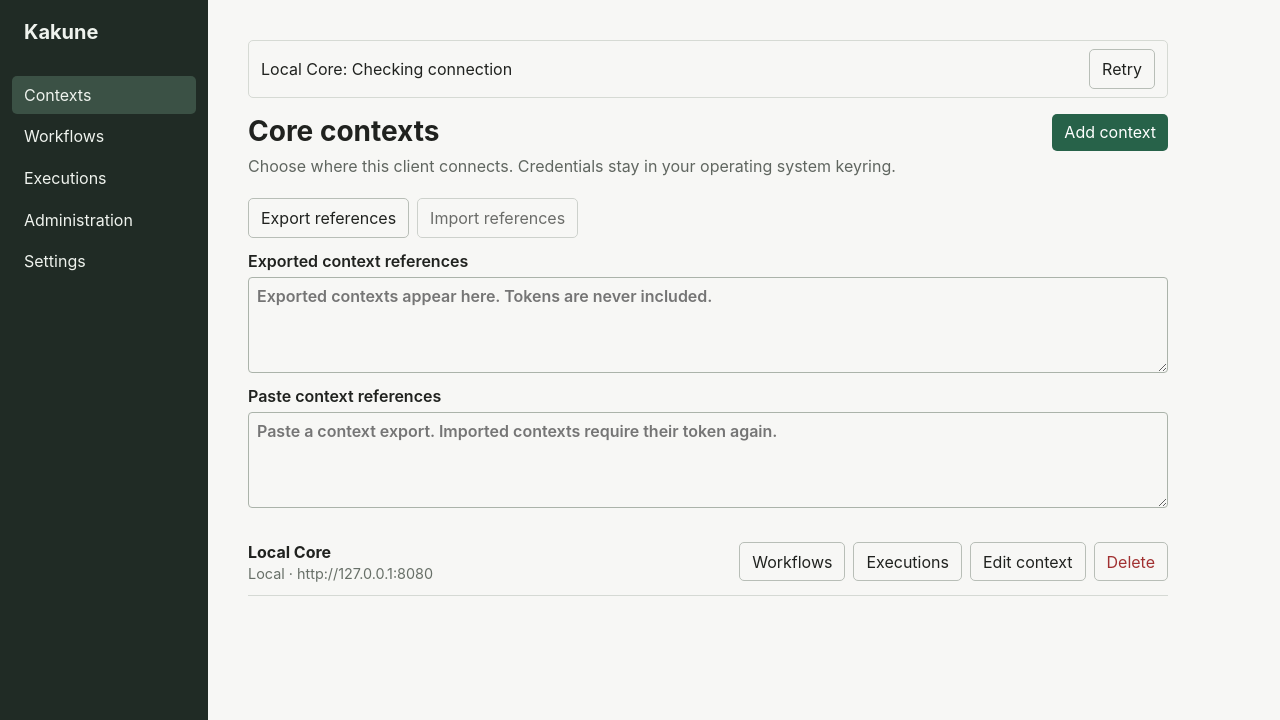
Workflow editor › keeps the selected workflow when an older source request finishes late
The width and height of the screenshot is (1280, 720).
Click the button "Workflows" below "Kakune".
click(104, 136)  # box [12,118,196,155]
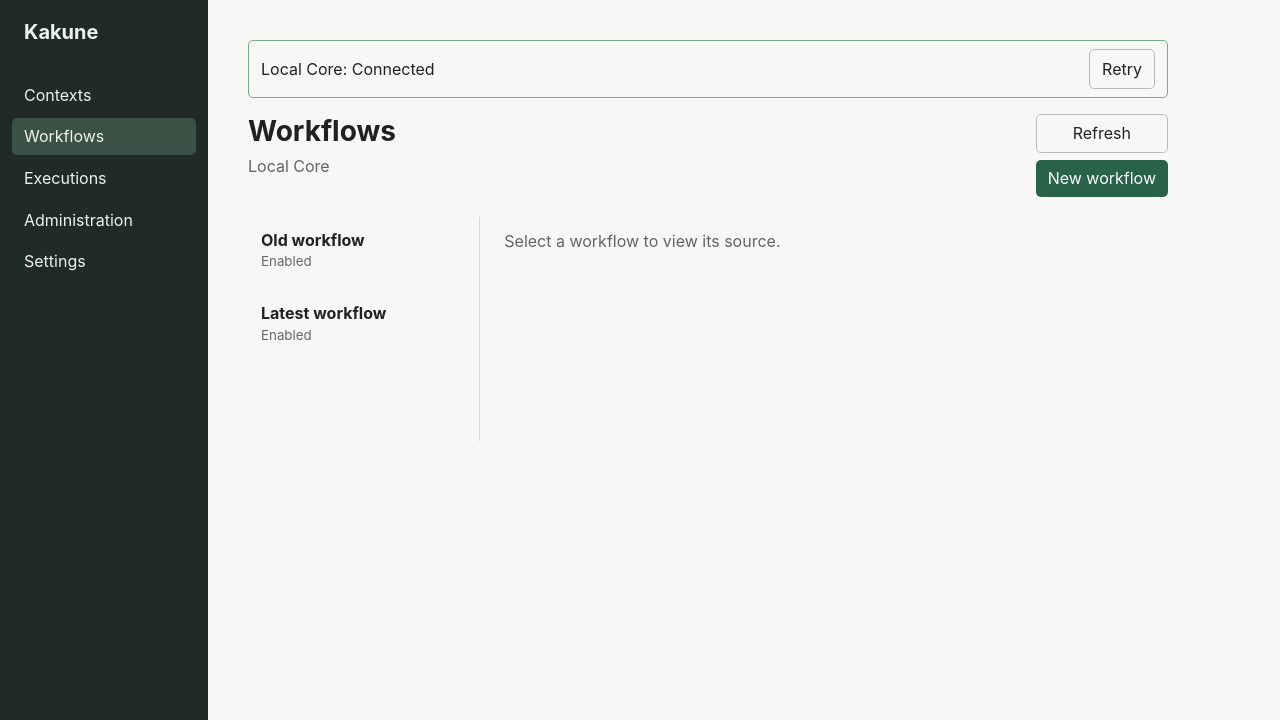
Click the button "Old workflow Enabled".
click(356, 250)  # box [248,217,463,282]
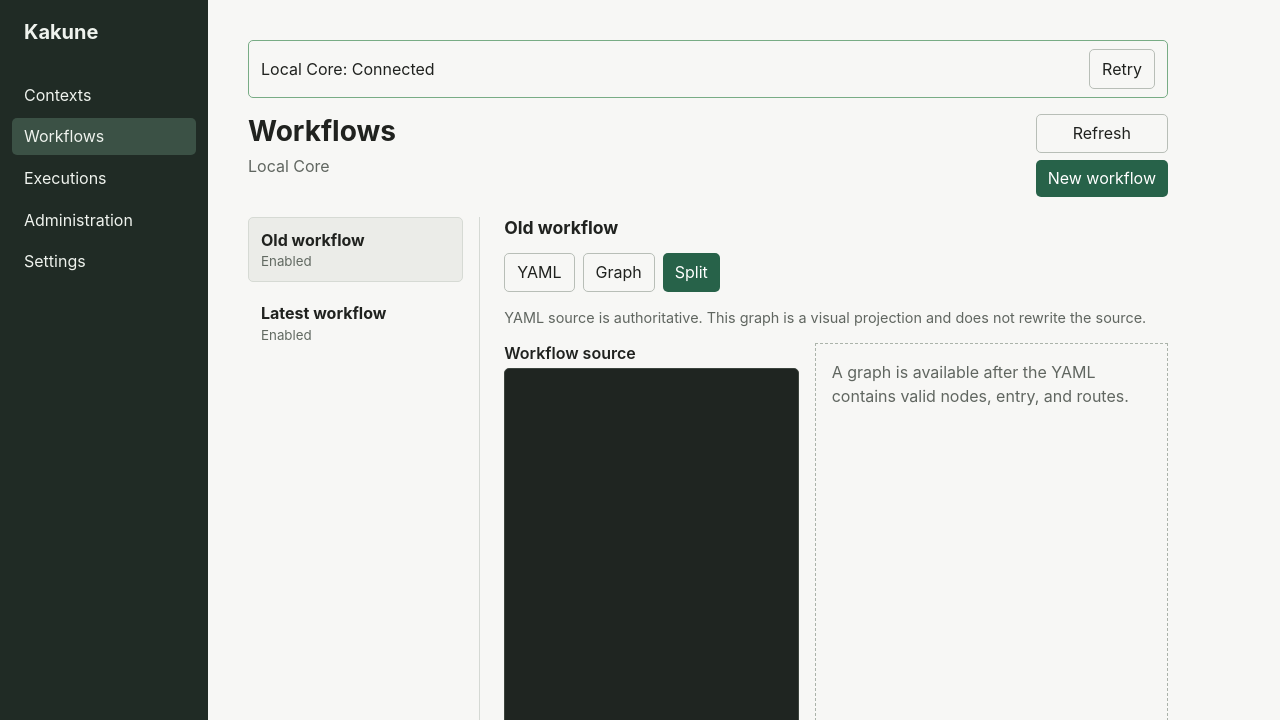
Click the button "Latest workflow Enabled".
click(356, 323)  # box [248,290,463,356]
(page scrolled)
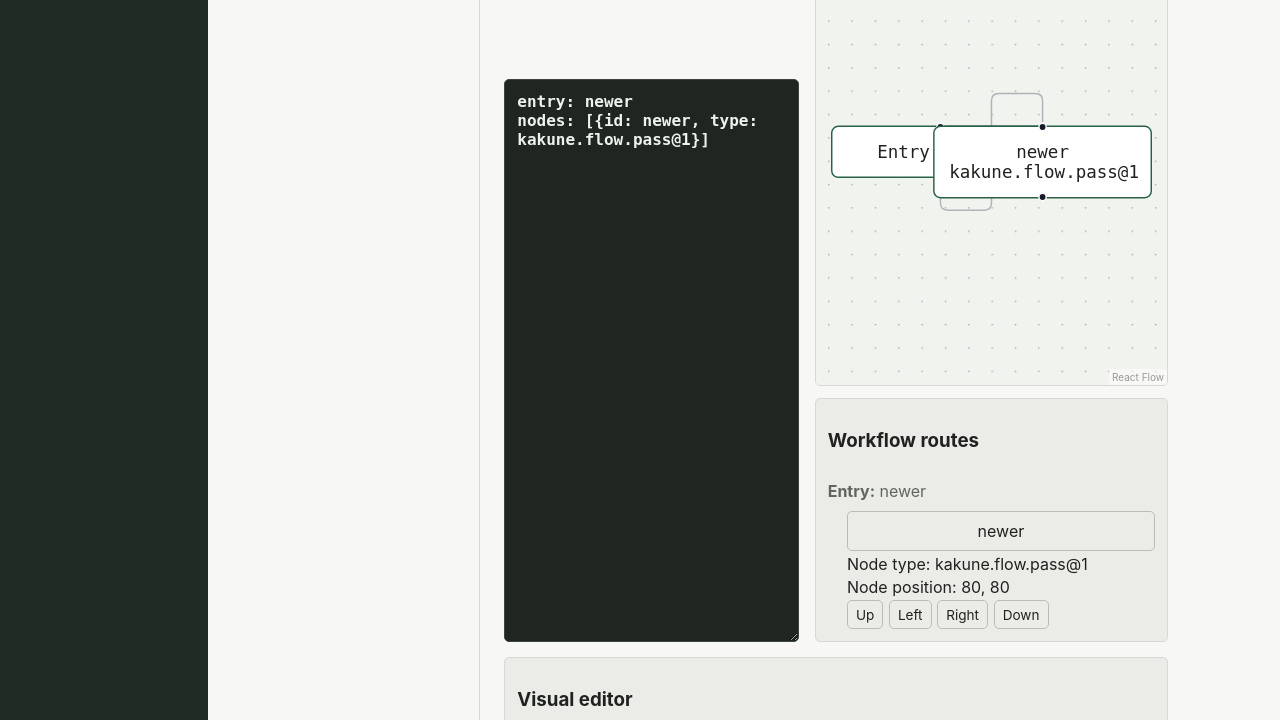
Check: the text box showing "entry: newer" is shown, box [504,79,799,642]
